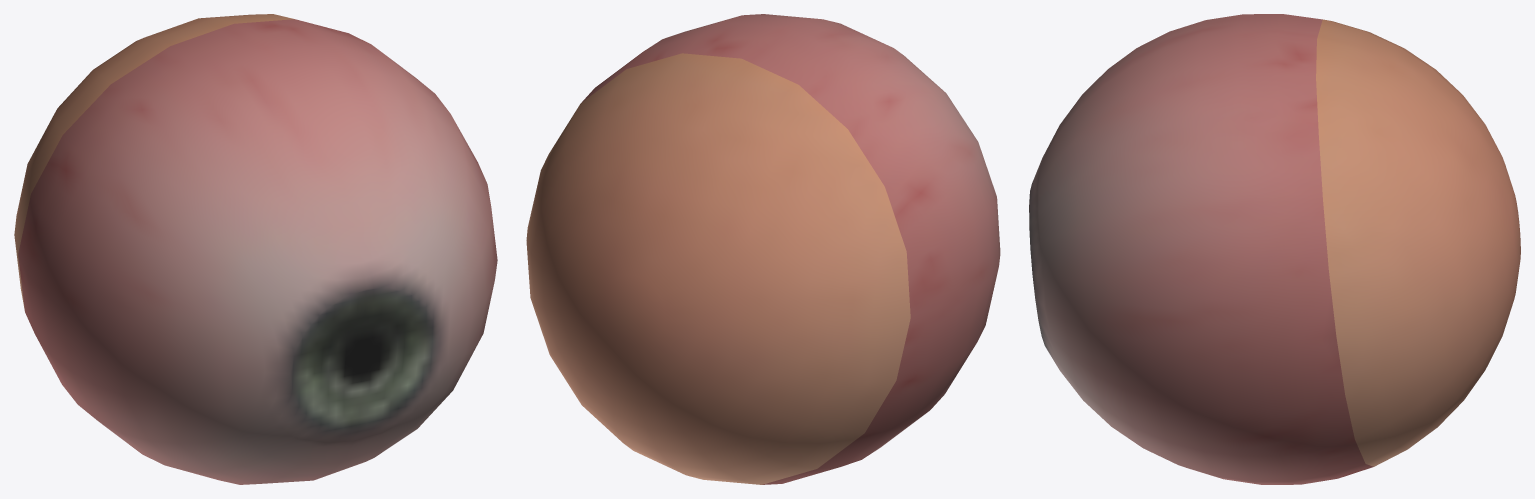
Rendered from MerlinEye.fbx.
3 renders of one model, left to right at view 1: azimuth 30°, elevation 25°; view 2: azimuth 150°, elevation 25°; view 3: azimuth 270°, elevation 25°, orthographic.
Parts seen in each view (by area): view 1: Eye; view 2: Eye; view 3: Eye.
Part boxes in pixels (x1,y1,x2,y2): Eye: [14, 14, 497, 484]; Eye: [526, 14, 1000, 484]; Eye: [1029, 14, 1520, 484].
Size of the model in its own units: 3.61 by 3.58 by 3.73.
1 material, 1 textured.
